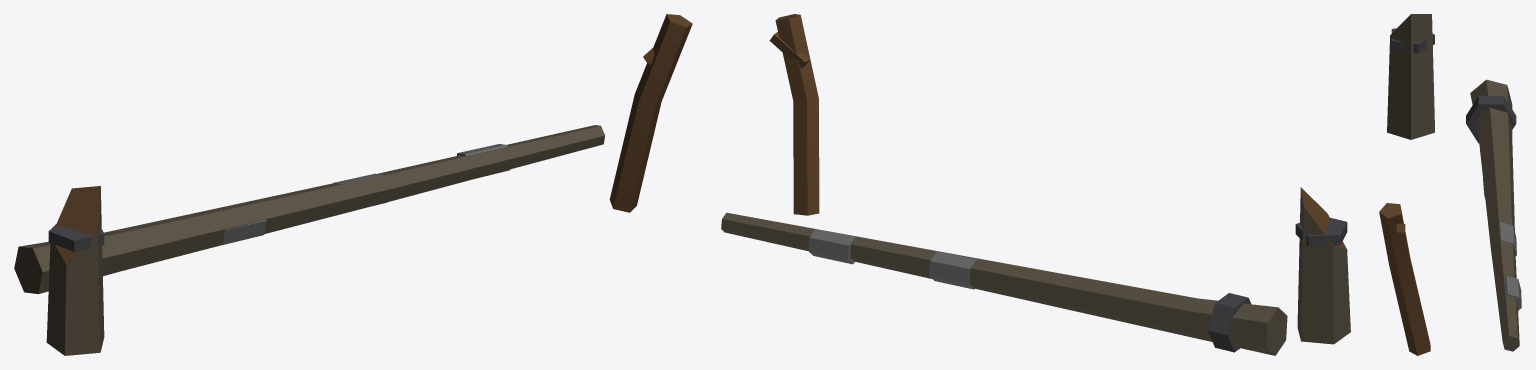
File: TollBar.fbx
3 views of the same model, side by side, from view 1: azimuth 30°, elevation 25°; view 2: azimuth 150°, elevation 25°; view 3: azimuth 270°, elevation 25° (orthographic). The views are drawn at different scales.
Visible parts, largest first — view 1: TollBar; view 2: TollBar; view 3: TollBar.
Boxes of the visible parts, x1,y1,x2,y2 form: TollBar: (14,14,692,355); TollBar: (721,14,1350,355); TollBar: (1379,14,1521,355).
Bounding box in the file's own units: 2.95 × 0.8799 × 0.7126.
